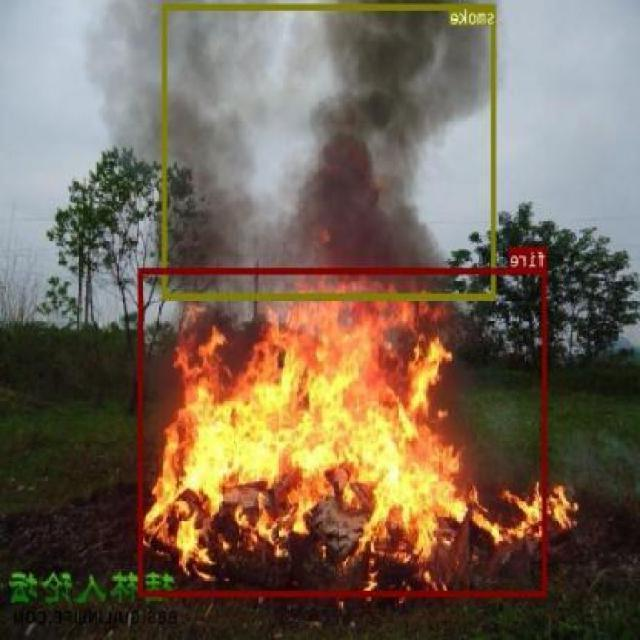Fire: (139, 267, 547, 596)
Smoke: (163, 3, 497, 299)
